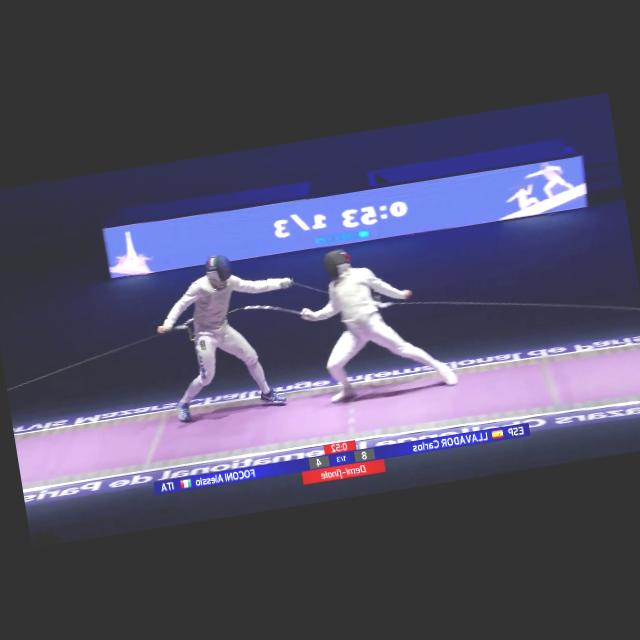blade: (218, 294, 307, 334), (284, 270, 332, 303)
